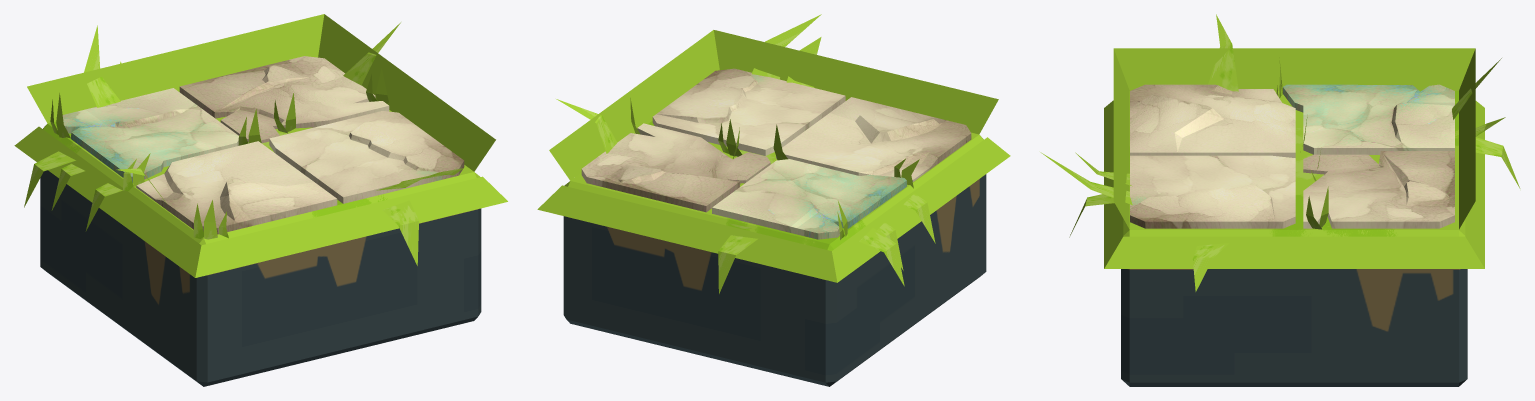
Rendered from tile_grass_03.glb.
3 views of the same model, side by side, from view 1: azimuth 30°, elevation 25°; view 2: azimuth 150°, elevation 25°; view 3: azimuth 270°, elevation 25° (orthographic). The views are drawn at different scales.
Visible parts, largest first — view 1: tile_grass_03; view 2: tile_grass_03; view 3: tile_grass_03.
Part boxes in pixels (box(x1,y1,x2,y2)): tile_grass_03: box(14, 14, 507, 386); tile_grass_03: box(537, 14, 1010, 386); tile_grass_03: box(1040, 14, 1520, 386).
Bounding box in the file's own units: 1.3 × 0.7231 × 1.39.
2 materials, 2 textured.
